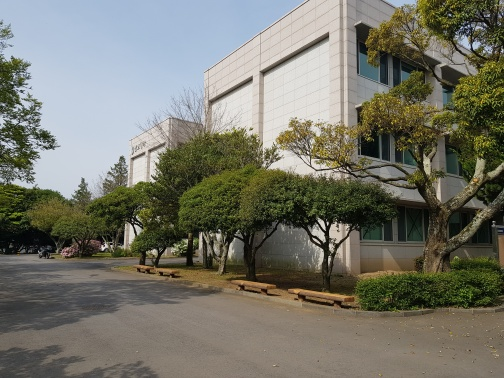College of Nursing: (203, 23, 482, 265), (123, 108, 184, 262)
